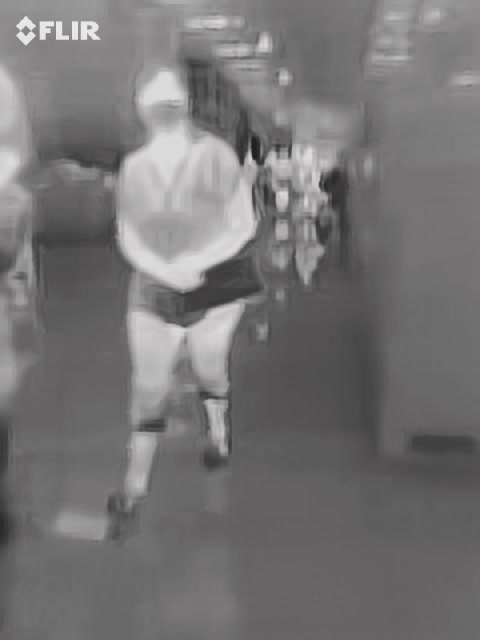head: (134, 66, 192, 133)
